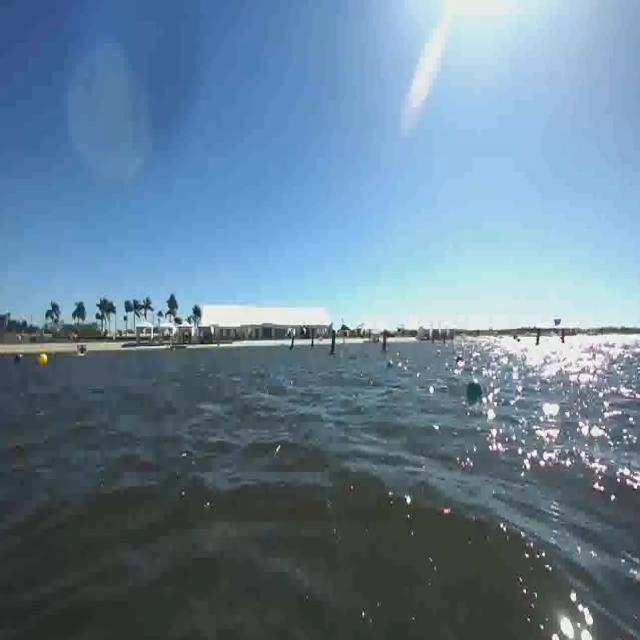green-buoy: (466, 377, 483, 398)
yellow-buoy: (39, 350, 49, 367)
